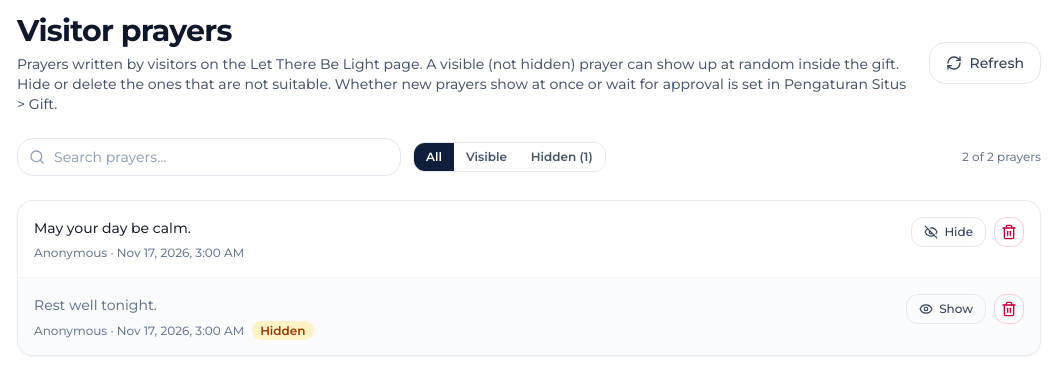
Test: PrayersCmsPage › lists prayers, filters them, hides/shows one and deletes one
The width and height of the screenshot is (1058, 373).
Expected: the text "May your day be calm." is shown, [34,218,191,236]
Expected: the text "Rest well tonight." is shown, [34,296,157,314]
Click the button "Hidden (1)".
click(562, 156)  # box [519,142,605,170]
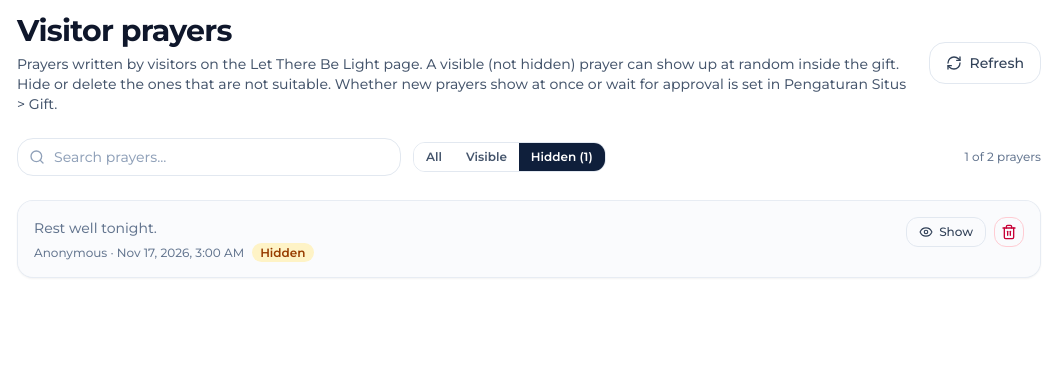
Expected: the text "Rest well tonight." is shown, [34,218,157,236]
Expected: the text "May your day be calm." is gone
Click the button "All".
click(434, 156)  # box [414,142,454,170]
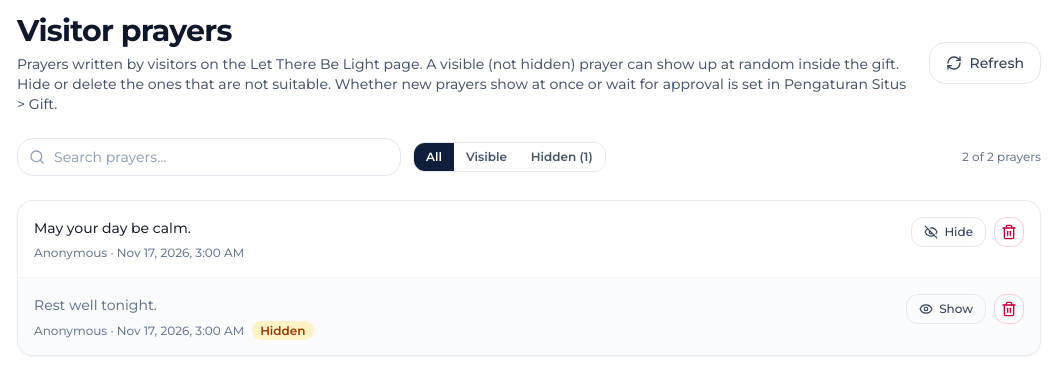
Click the button "Hide".
click(949, 232)  # box [911,216,986,246]
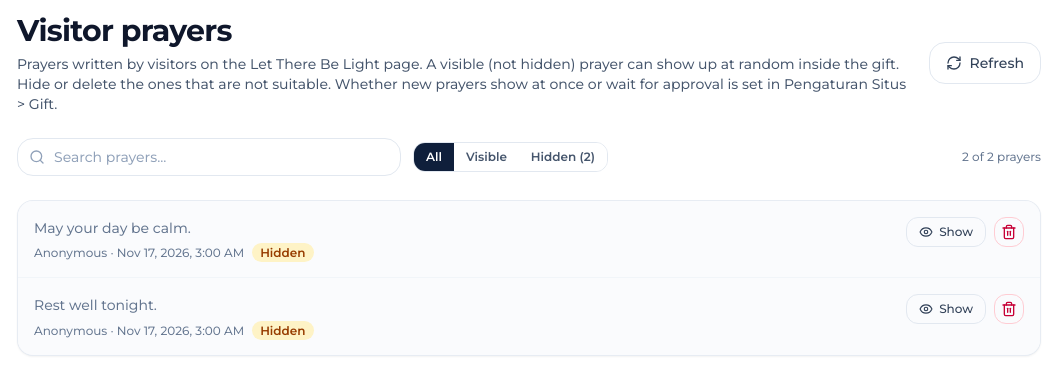
Click the button "Show" in the row of "Rest well tonight.".
click(946, 309)  # box [906,294,986,324]
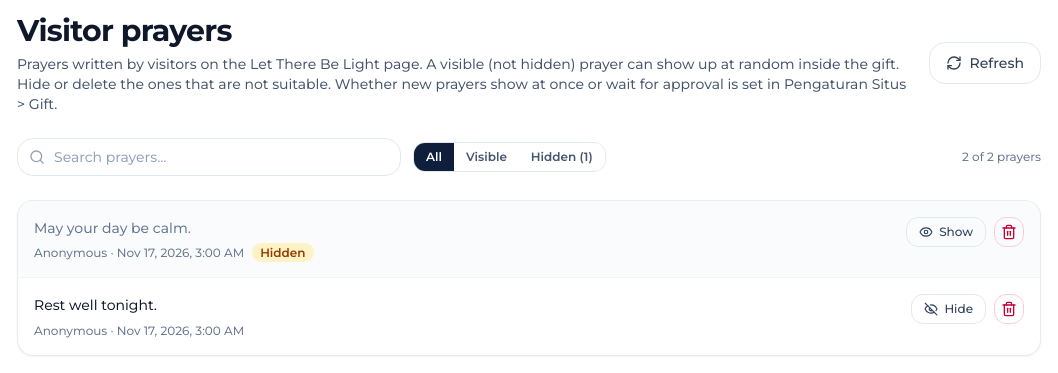
Click the button named "delete prayer" in the row of "May your day be calm.".
click(1009, 232)  # box [994,216,1024,246]
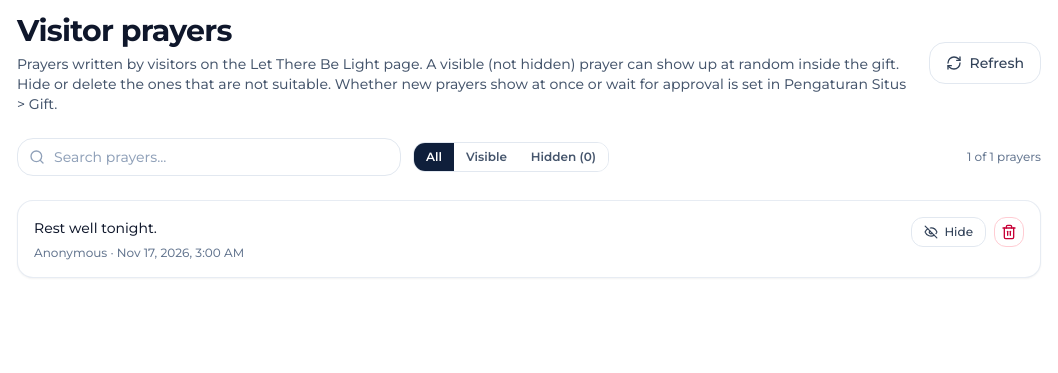
Expected: the text "May your day be calm." is gone
